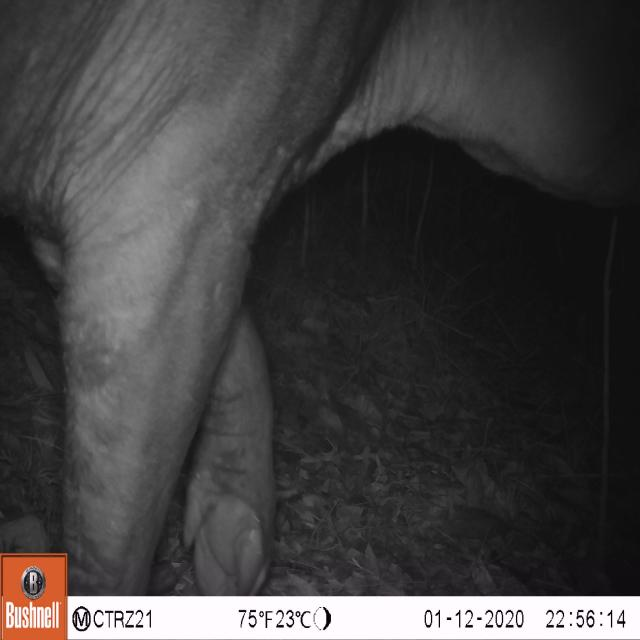Lowland Tapir: (2, 2, 638, 596)
